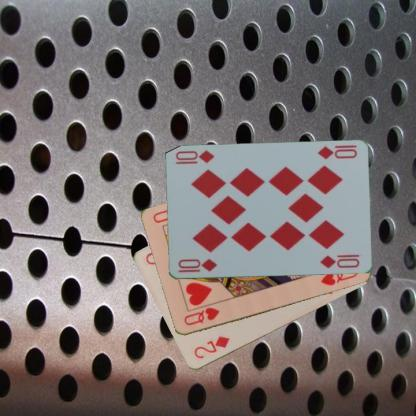10d: (314, 142, 358, 160), (175, 256, 218, 274)
2d: (191, 334, 231, 361)
Qh: (181, 305, 221, 327)
